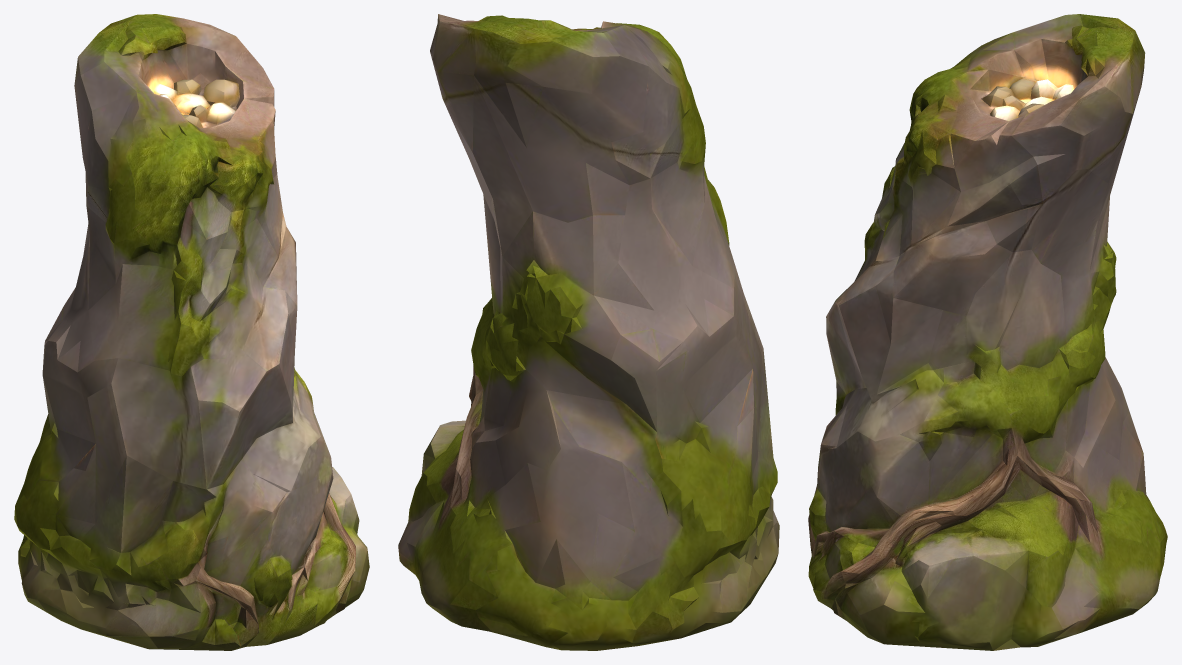
Rendered from INT-003.glb.
3 views of the same model, side by side, from view 1: azimuth 30°, elevation 25°; view 2: azimuth 150°, elevation 25°; view 3: azimuth 270°, elevation 25° (orthographic). The views are drawn at different scales.
Parts seen in each view (by area): view 1: INT-003; view 2: INT-003; view 3: INT-003.
Boxes of the visible parts, x1,y1,x2,y2 form: INT-003: (14,14,369,650); INT-003: (398,14,779,650); INT-003: (808,14,1167,650).
Size of the model in its own units: 0.7685 by 1.3 by 0.768.
1 material, 1 textured.
